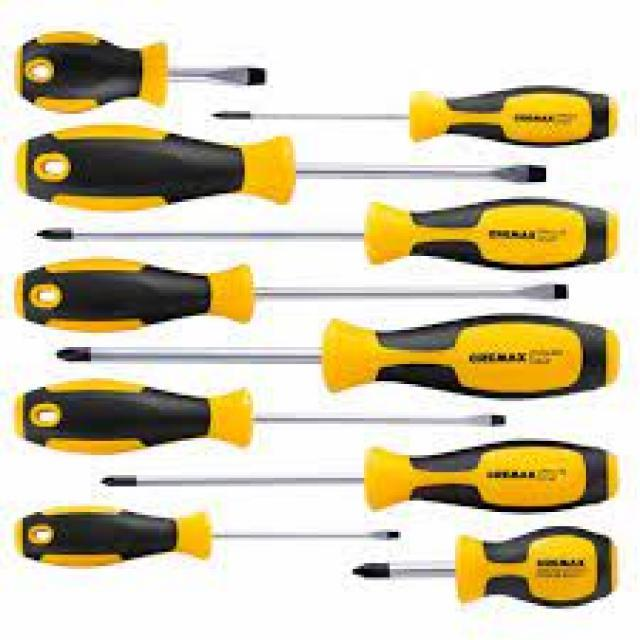screwdriver: (9, 121, 558, 220), (54, 320, 626, 406), (5, 254, 578, 338), (27, 196, 622, 273), (98, 435, 619, 518), (11, 378, 512, 458), (202, 85, 623, 154), (6, 500, 404, 570), (347, 519, 623, 610), (14, 24, 282, 115)
